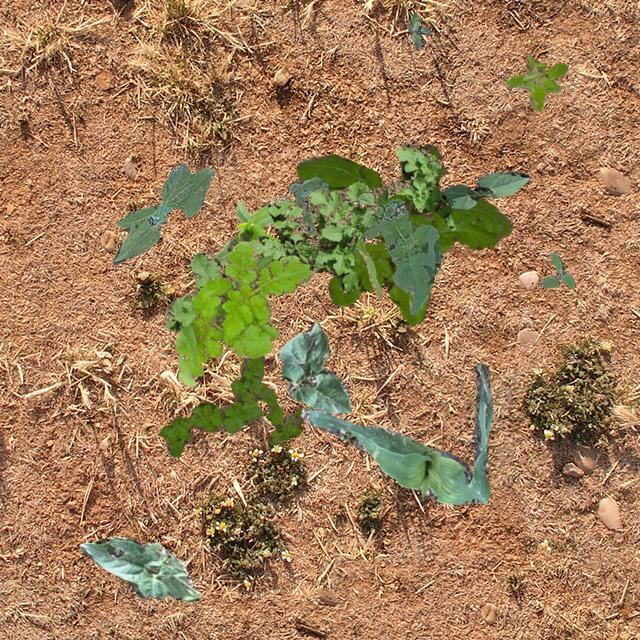crop: (299, 362, 492, 504), (215, 198, 382, 320), (112, 162, 214, 264), (78, 536, 200, 600), (278, 320, 350, 412), (440, 170, 528, 208)
weed: (162, 142, 456, 330), (296, 144, 512, 324), (288, 175, 442, 312), (174, 240, 312, 386), (156, 354, 302, 456), (504, 54, 566, 110), (538, 252, 574, 288), (406, 12, 430, 48), (226, 232, 248, 252)
